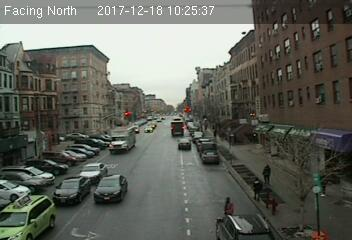car: (1, 192, 55, 239), (214, 214, 273, 240), (53, 175, 89, 202), (94, 175, 127, 202), (80, 163, 107, 181), (201, 150, 220, 163), (176, 137, 193, 151)
pedestrian: (253, 176, 262, 202), (261, 164, 272, 185)
truck: (110, 127, 135, 151)
ups: (170, 121, 185, 138)
